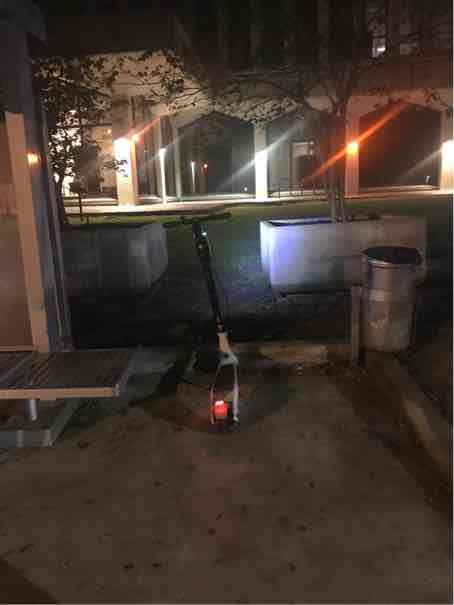scooter: (172, 216, 277, 432)
